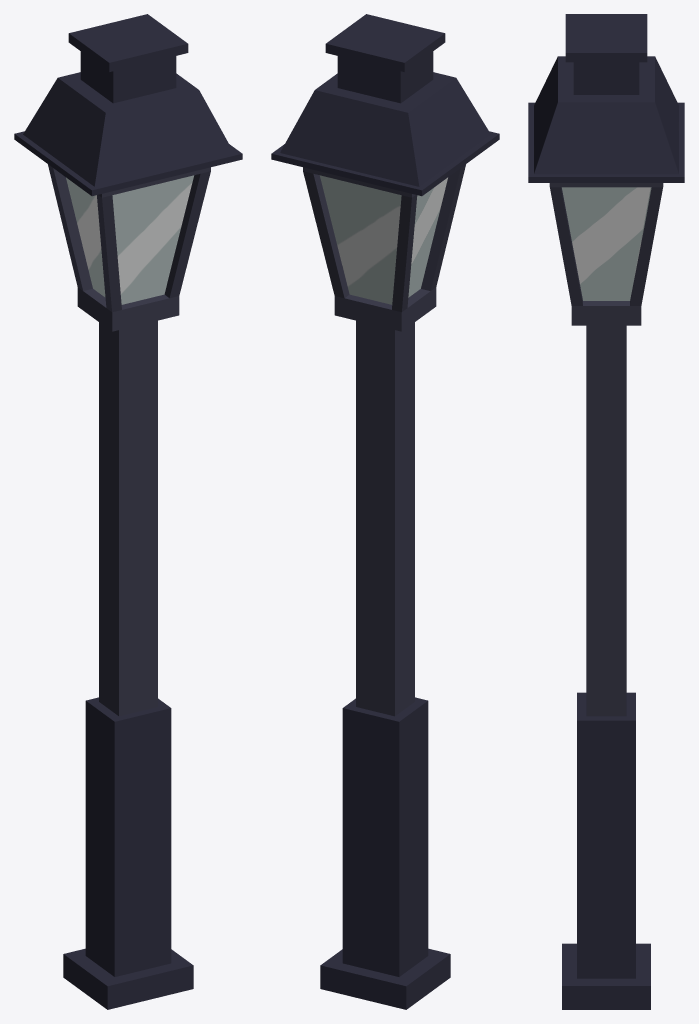
File: Lantern.fbx
The picture shows the model from 3 angles, left to right: view 1: azimuth 30°, elevation 25°; view 2: azimuth 150°, elevation 25°; view 3: azimuth 270°, elevation 25°; orthographic projection.
Visible parts, largest first — view 1: Lantern, Glass; view 2: Lantern, Glass; view 3: Lantern, Glass.
Boxes of the visible parts, x1,y1,x2,y2 form: Lantern: [14, 14, 242, 1009]; Glass: [66, 175, 194, 304]; Lantern: [271, 14, 499, 1009]; Glass: [319, 175, 447, 304]; Lantern: [528, 14, 684, 1009]; Glass: [562, 187, 651, 300].
Size of the model in its own units: 93.33 by 560 by 83.13.
